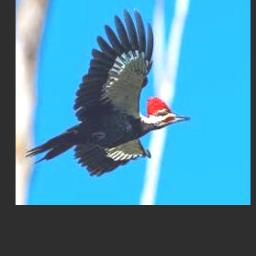Woodpecker: (25, 8, 190, 176)
